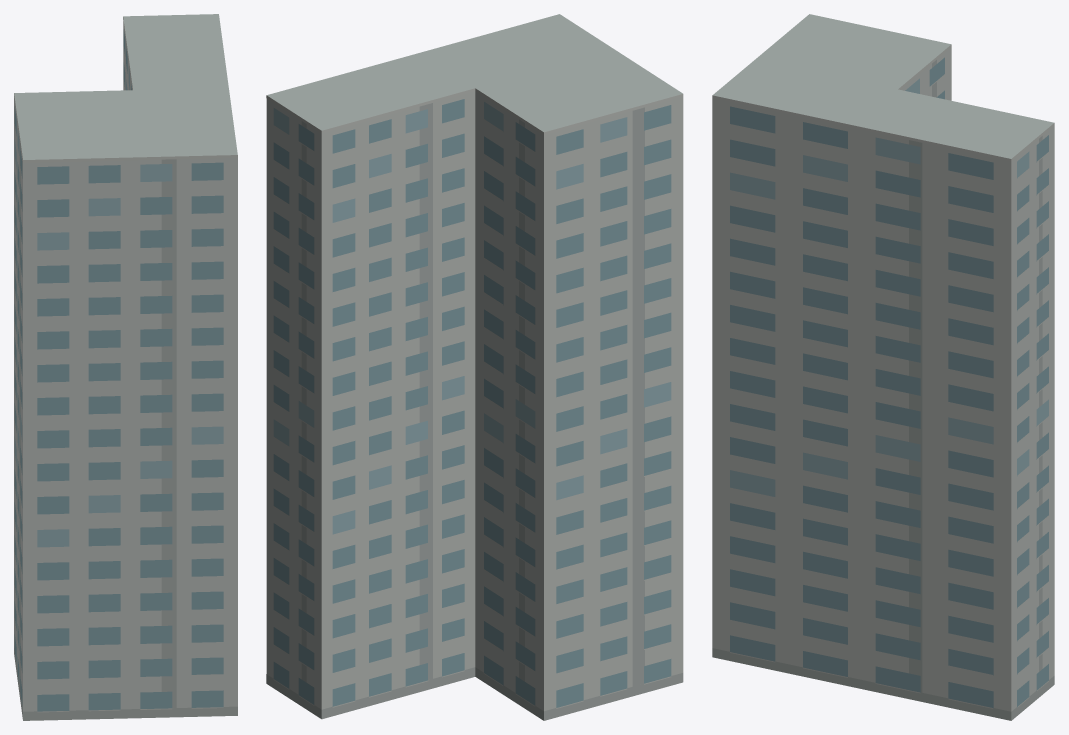
File: residential-80845887-e73e-47cd-a425-2835808f1b4a.glb
3 views of the same model, side by side, from view 1: azimuth 30°, elevation 25°; view 2: azimuth 150°, elevation 25°; view 3: azimuth 270°, elevation 25° (orthographic). The views are drawn at different scales.
Parts seen in each view (by area): view 1: residential-80845887-e73e-47cd-a425-2835808f1b4a.tmp; view 2: residential-80845887-e73e-47cd-a425-2835808f1b4a.tmp; view 3: residential-80845887-e73e-47cd-a425-2835808f1b4a.tmp.
Boxes of the visible parts, x1,y1,x2,y2 form: residential-80845887-e73e-47cd-a425-2835808f1b4a.tmp: (14,14,237,720); residential-80845887-e73e-47cd-a425-2835808f1b4a.tmp: (266,14,683,720); residential-80845887-e73e-47cd-a425-2835808f1b4a.tmp: (712,14,1054,720).
Bounding box in the file's own units: 27.13 × 49 × 27.05.
